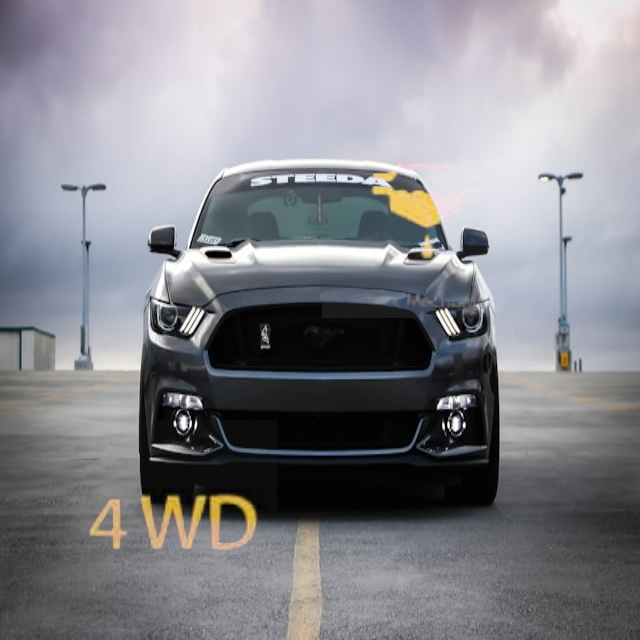symbol: (322, 105, 535, 318), (66, 420, 277, 631)
